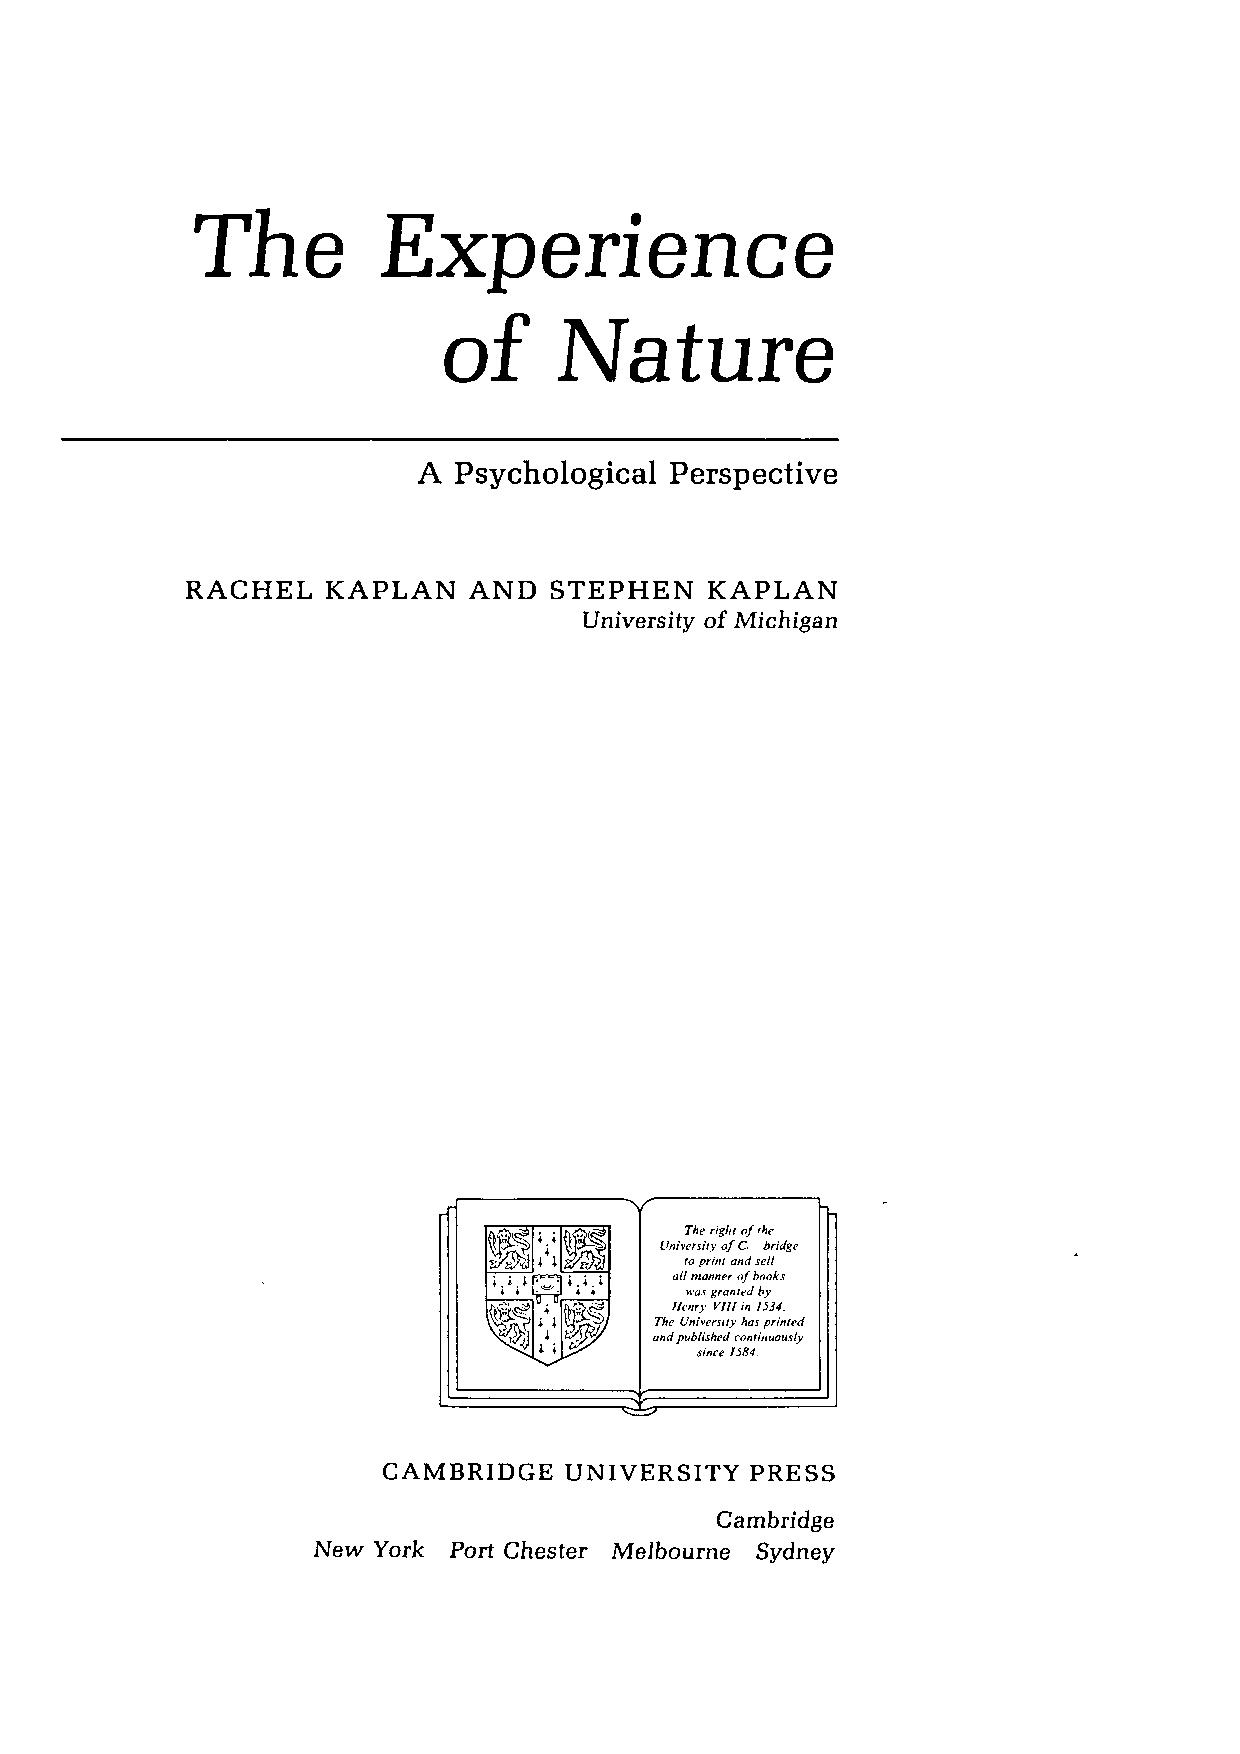author: (183, 574, 836, 604)
title: (189, 207, 837, 388)
